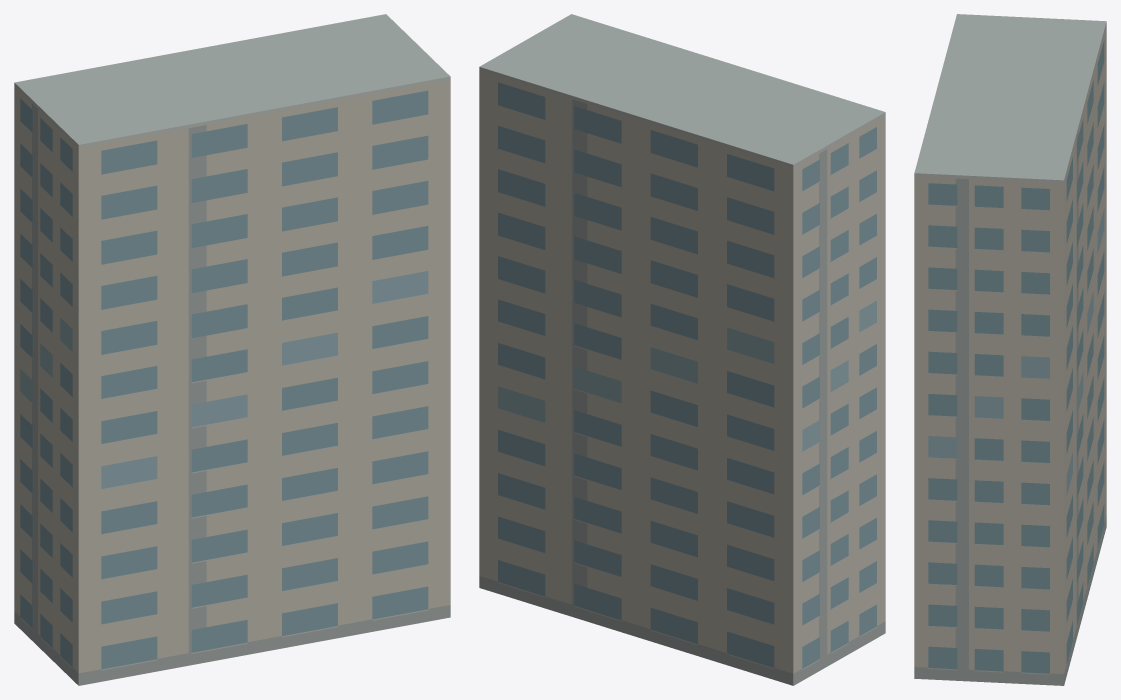
File: residential-d3b3c553-26da-4b1e-abf3-2542a0b4bead.glb
3 renders of one model, left to right at view 1: azimuth 30°, elevation 25°; view 2: azimuth 150°, elevation 25°; view 3: azimuth 270°, elevation 25°, orthographic. The views are drawn at different scales.
Visible parts, largest first — view 1: residential-d3b3c553-26da-4b1e-abf3-2542a0b4bead.tmp; view 2: residential-d3b3c553-26da-4b1e-abf3-2542a0b4bead.tmp; view 3: residential-d3b3c553-26da-4b1e-abf3-2542a0b4bead.tmp.
Part boxes in pixels (<box>): residential-d3b3c553-26da-4b1e-abf3-2542a0b4bead.tmp: <box>14,14,450,685</box>; residential-d3b3c553-26da-4b1e-abf3-2542a0b4bead.tmp: <box>479,14,885,685</box>; residential-d3b3c553-26da-4b1e-abf3-2542a0b4bead.tmp: <box>914,14,1106,685</box>.
Bounding box in the file's own units: 25.83 × 36.6 × 12.62.
